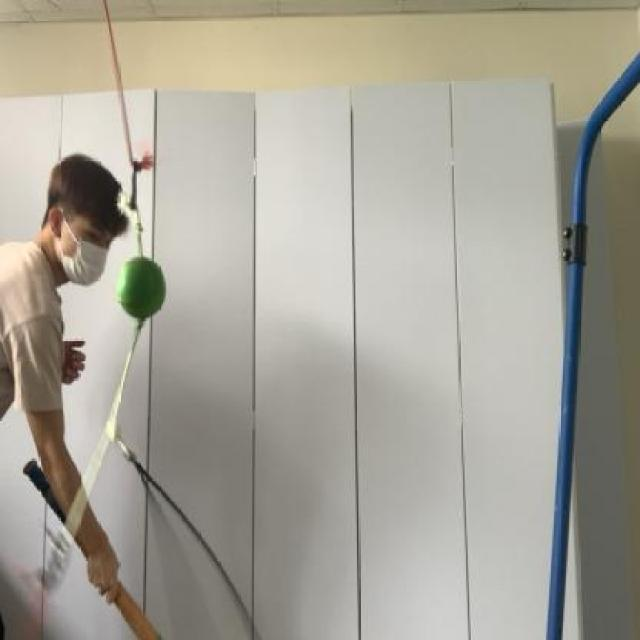baseball: (116, 258, 172, 320)
